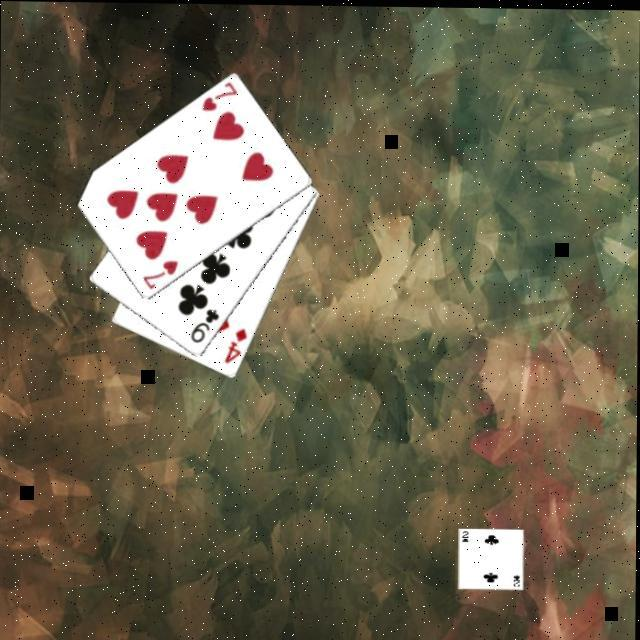4D: (223, 326, 251, 368)
7H: (200, 78, 242, 115), (140, 258, 182, 292)
9C: (188, 306, 224, 346)
